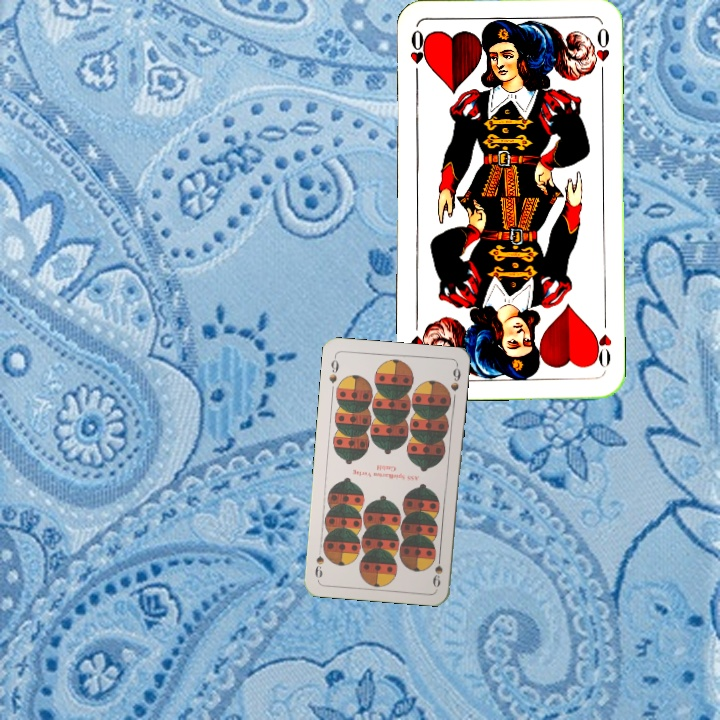HO: (589, 314, 615, 373), (405, 25, 428, 84)
S9: (429, 549, 445, 589), (325, 352, 341, 386)
